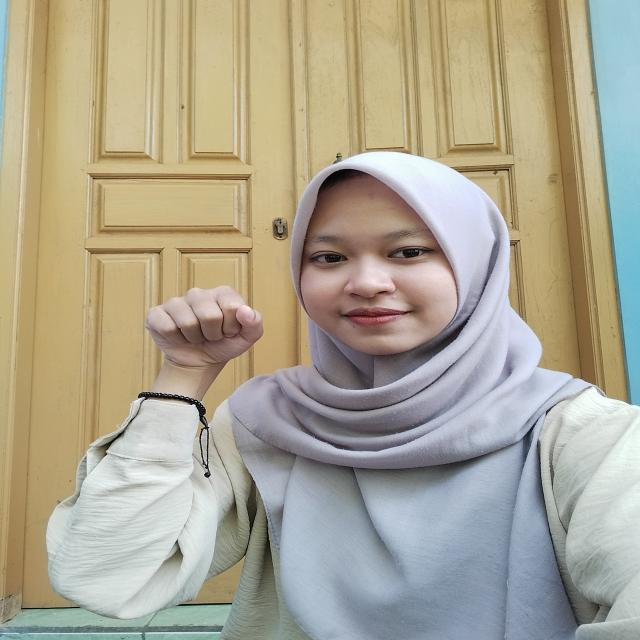baik: (111, 285, 288, 435)
